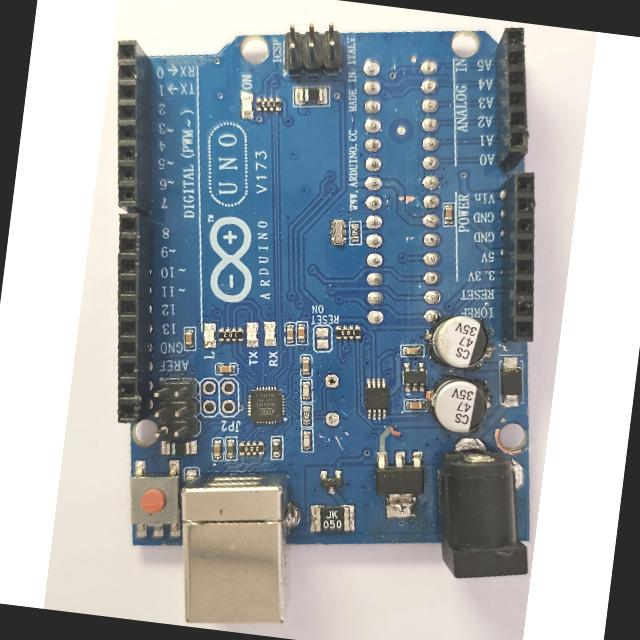missing_atmega: (352, 45, 458, 336)
missing_crystal_os: (315, 357, 349, 446)
